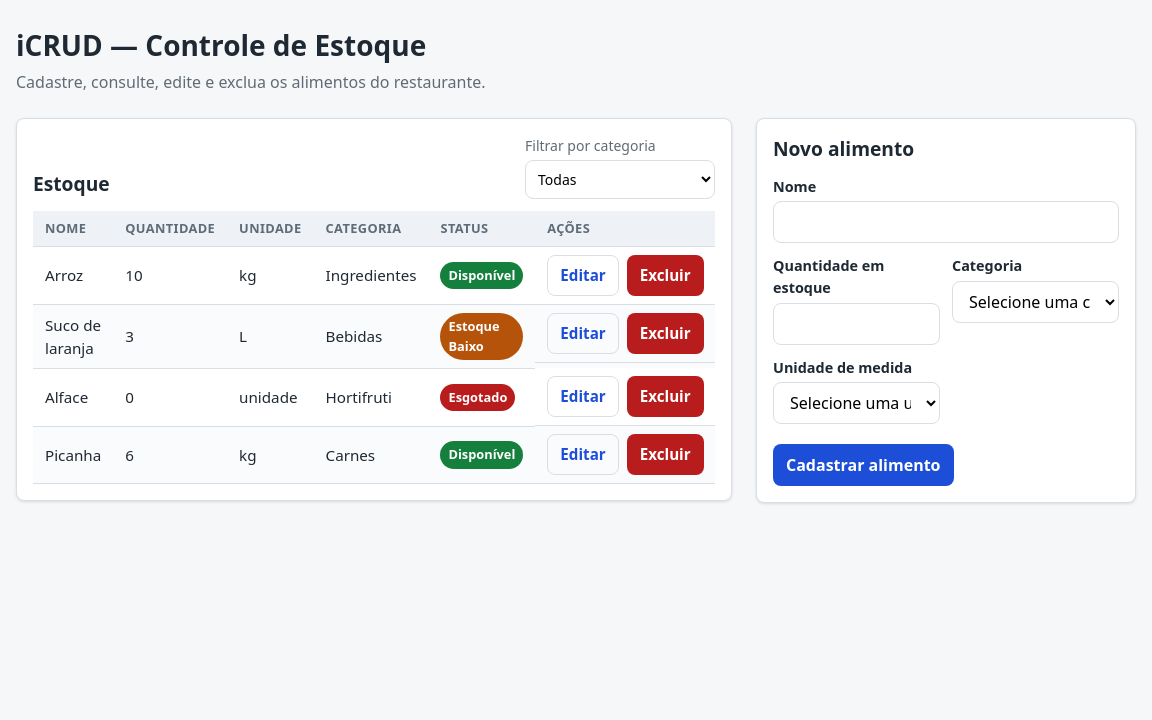
Test: US1 — create food › blocks an empty submit locally and shows every required message
The width and height of the screenshot is (1152, 720).
Expected: the text "Arroz" is shown, [33,247,113,305]
Click the button "Cadastrar alimento". click: point(863, 465)
box: [773,444,954,486]
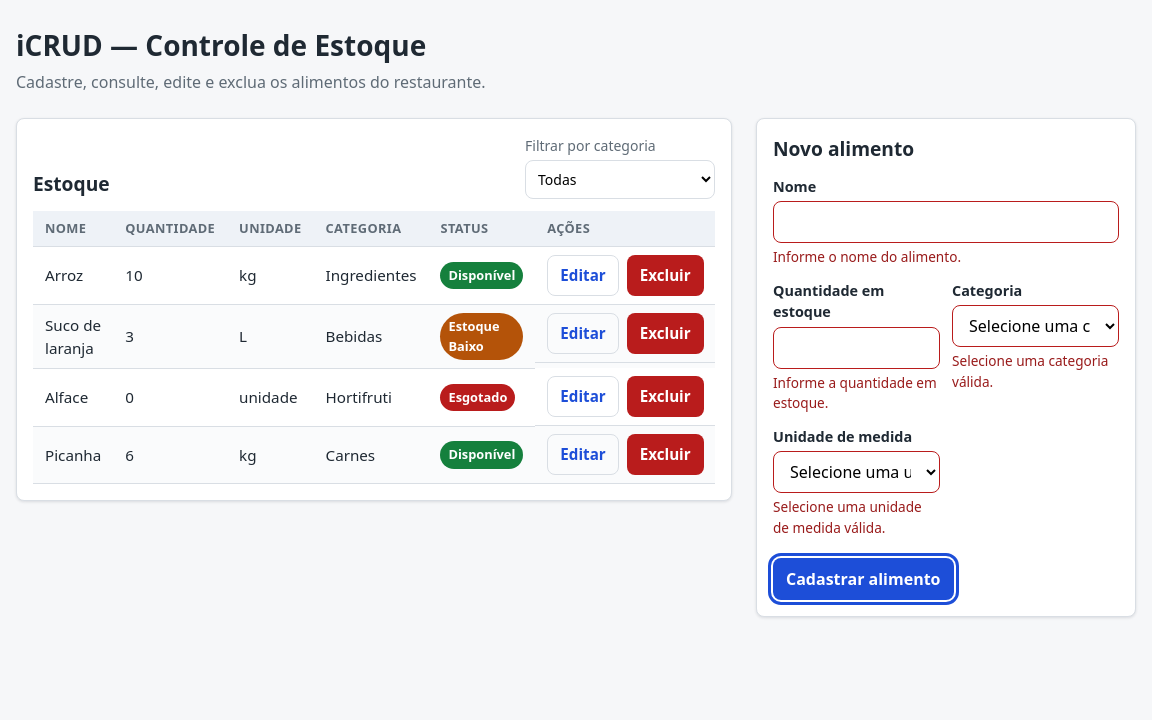
Result: the text "Informe o nome do alimento." is shown at [773,247,961,266]
Result: the text "Informe a quantidade em estoque." is shown at [773,373,940,414]
Result: the text "Selecione uma categoria válida." is shown at [952,351,1119,392]
